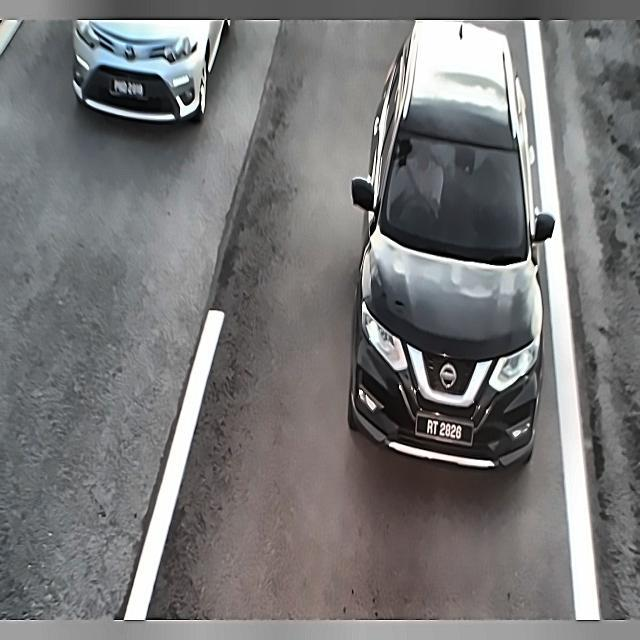car: (411, 406, 485, 454), (109, 75, 151, 103)
